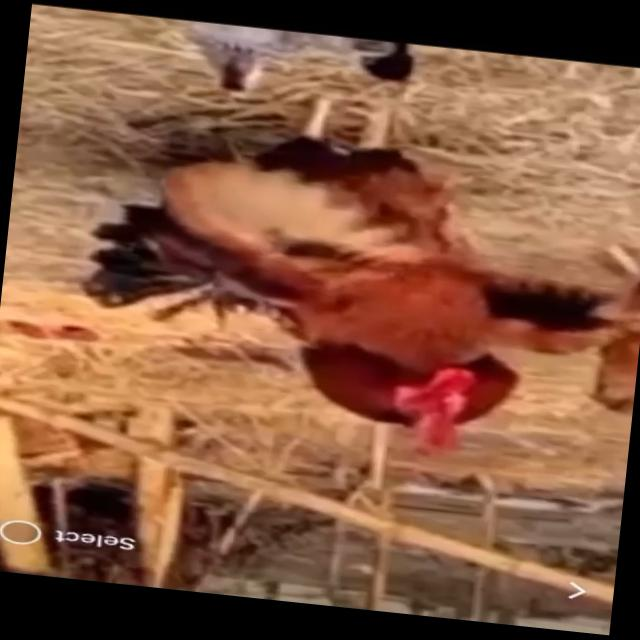wing flap: (54, 84, 624, 478)
